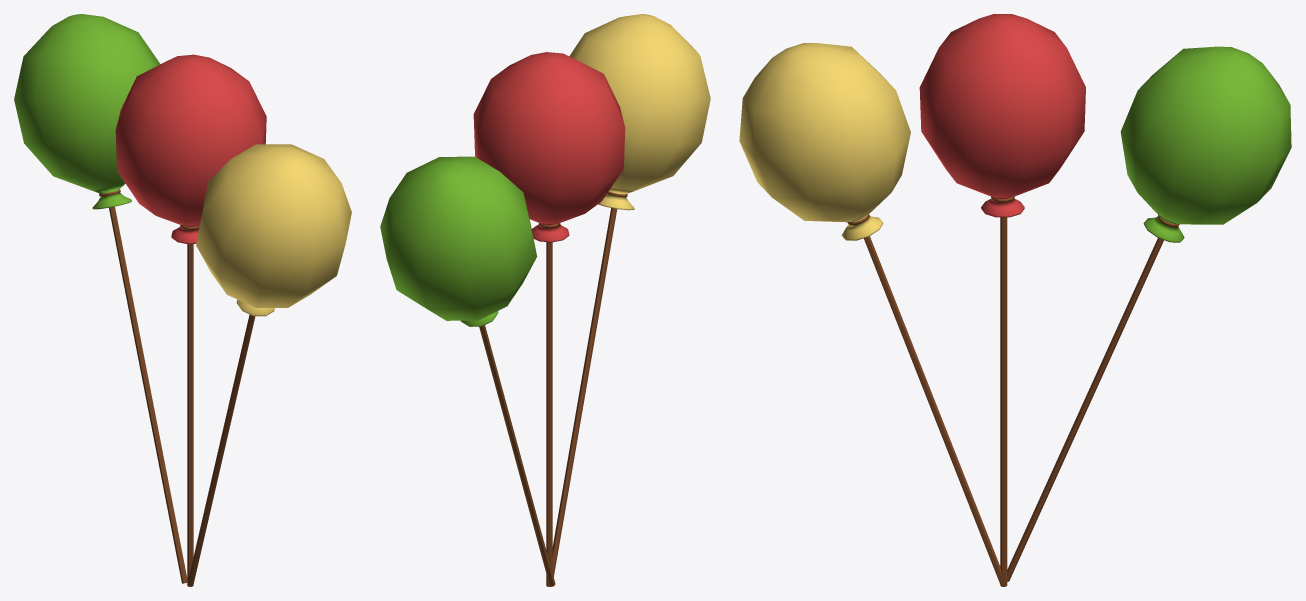
File: Balloons_2.fbx
3 renders of one model, left to right at view 1: azimuth 30°, elevation 25°; view 2: azimuth 150°, elevation 25°; view 3: azimuth 270°, elevation 25°, orthographic. The views are drawn at different scales.
Visible parts, largest first — view 1: Circle.101; view 2: Circle.101; view 3: Circle.101.
Part boxes in pixels (x1,y1,x2,y2): Circle.101: [14, 14, 351, 586]; Circle.101: [380, 14, 710, 586]; Circle.101: [739, 14, 1291, 586].
Size of the model in its own units: 68.23 by 261 by 230.
Materials: 1 (1 with a texture image).
